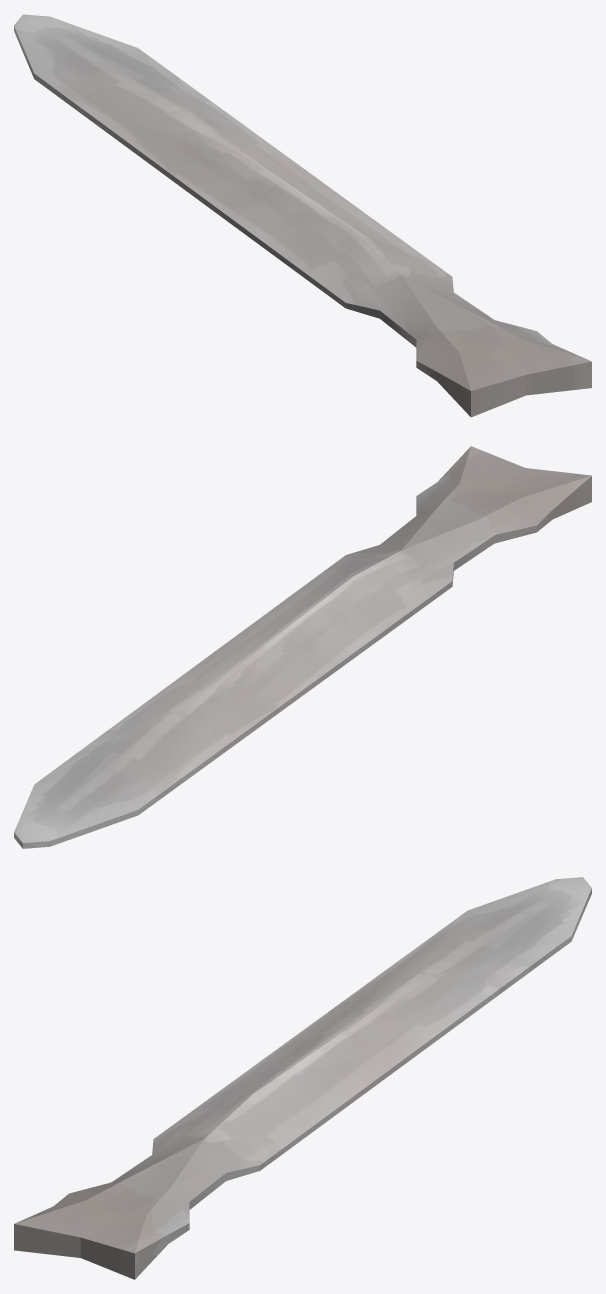
Rendered from blade2.FBX.
The picture shows the model from 3 angles, top to bottom: view 1: azimuth 30°, elevation 25°; view 2: azimuth 150°, elevation 25°; view 3: azimuth 330°, elevation 25°; orthographic projection.
Parts seen in each view (by area): view 1: blade002; view 2: blade002; view 3: blade002.
Part boxes in pixels (x1,y1,x2,y2): blade002: (14, 14, 591, 417); blade002: (14, 446, 591, 848); blade002: (14, 877, 591, 1279).
Size of the model in its own units: 0.1396 by 1.02 by 0.0611.
